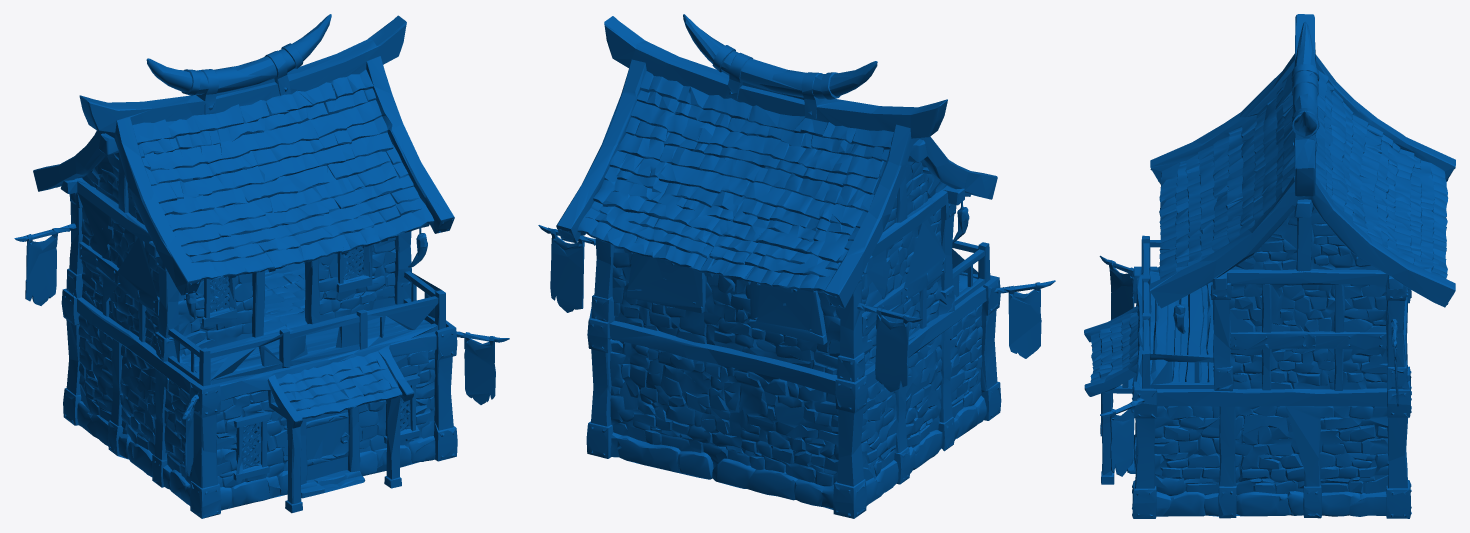
Rendered from house_stone_a.glb.
The picture shows the model from 3 angles, left to right: view 1: azimuth 30°, elevation 25°; view 2: azimuth 150°, elevation 25°; view 3: azimuth 270°, elevation 25°; orthographic projection. The views are drawn at different scales.
Parts seen in each view (by area): view 1: house_stone_a; view 2: house_stone_a; view 3: house_stone_a.
Boxes of the visible parts, x1=… form: house_stone_a: x1=14, y1=14, x2=509, y2=518; house_stone_a: x1=538, y1=14, x2=1055, y2=518; house_stone_a: x1=1084, y1=14, x2=1455, y2=518.
Size of the model in its own units: 8.32 by 8.5 by 7.36.
1 material, 1 textured.
